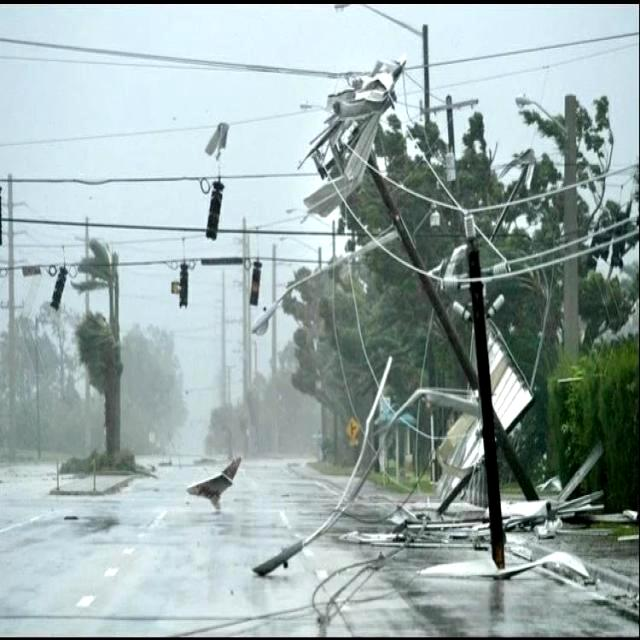Broken Pole: (312, 64, 560, 606)
